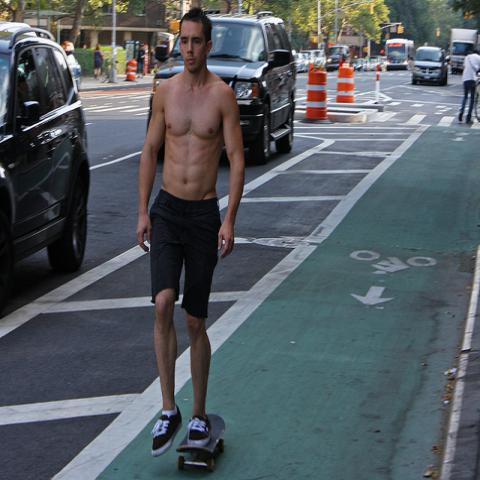bus: (386, 39, 414, 71)
car: (0, 23, 93, 286), (410, 44, 450, 85), (326, 43, 351, 70), (296, 52, 314, 74), (363, 56, 384, 72), (300, 49, 326, 60), (350, 59, 362, 71), (355, 57, 366, 70), (317, 56, 327, 66)
truck: (2, 28, 91, 298), (146, 9, 296, 162), (449, 25, 478, 75), (412, 47, 449, 86)
